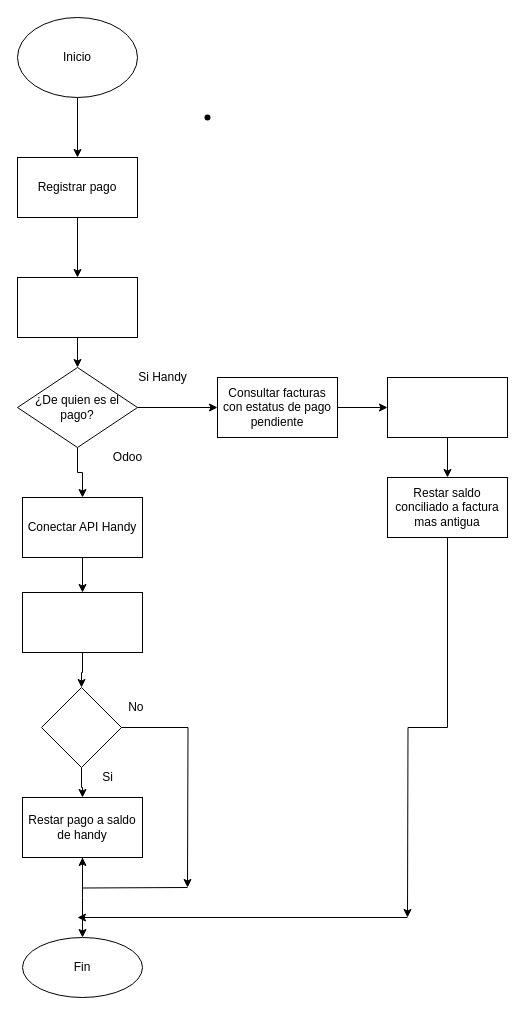
The diagram is 525 pixels wide and 1015 high, and some of its shapes have lost their labels. The centre of each missing label's shape, as x and y in pixels:
"Consultar saldo del cliente" belongs at point 82,622.
"Ordenar facturas por fechas asc" belongs at point 447,407.
"saldo > 0" belongs at point 81,727.
"Validar pago" belongs at point 77,307.
